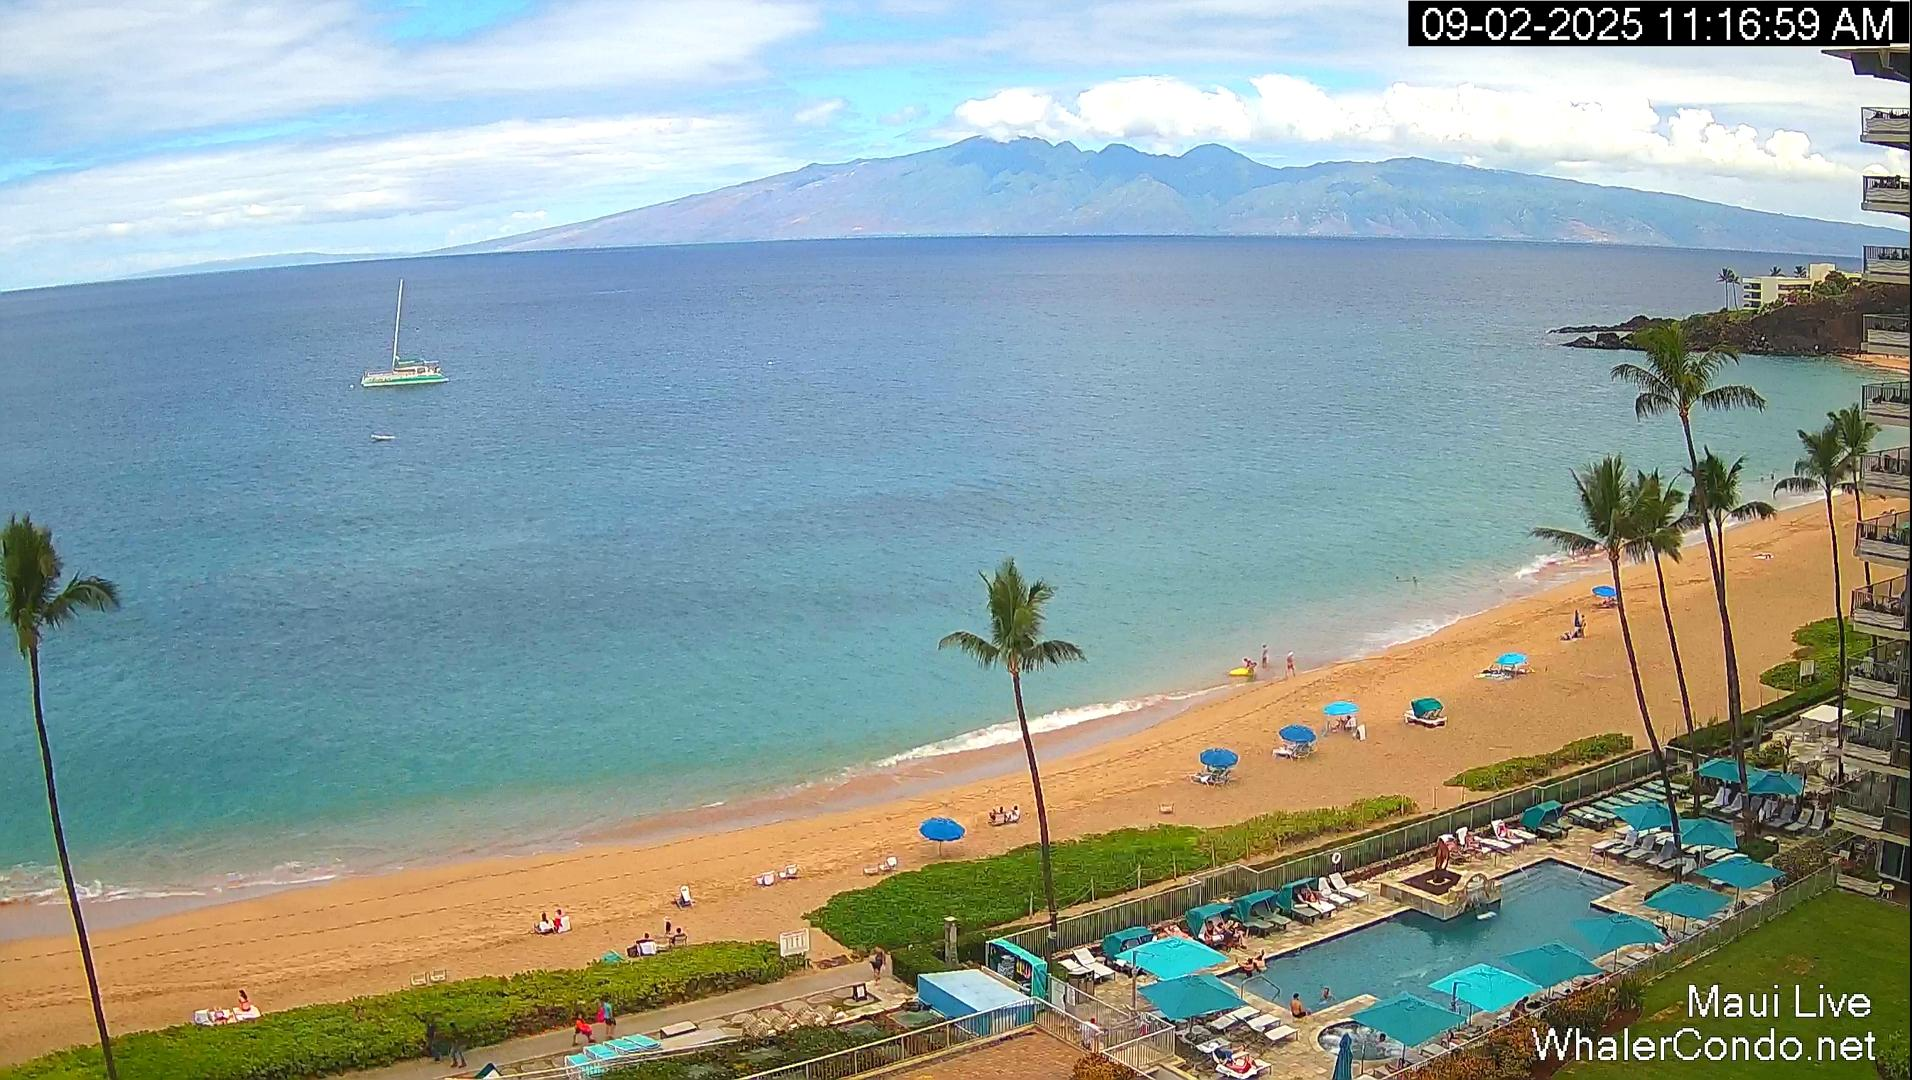boat: (360, 278, 448, 388), (371, 431, 398, 445)
person: (417, 1010, 438, 1063), (234, 989, 262, 1022), (448, 1022, 468, 1068), (600, 996, 616, 1040), (870, 948, 886, 990), (1448, 834, 1472, 860), (572, 1024, 596, 1046), (1298, 883, 1323, 904), (1464, 829, 1484, 854), (1222, 1056, 1257, 1070), (208, 1005, 231, 1026), (1318, 986, 1338, 1010), (636, 932, 656, 956), (1217, 920, 1237, 944), (1290, 992, 1307, 1018), (1238, 952, 1255, 977), (536, 912, 554, 934), (670, 926, 688, 947), (1254, 950, 1270, 973), (1511, 995, 1527, 1017), (1285, 651, 1296, 678), (552, 909, 564, 933), (1499, 820, 1513, 839), (1334, 713, 1350, 729), (990, 805, 1004, 822), (1262, 643, 1270, 670), (605, 1024, 617, 1041), (1574, 609, 1582, 634), (1204, 920, 1213, 940), (663, 916, 672, 935), (1580, 614, 1588, 634), (1242, 657, 1254, 669), (1410, 574, 1419, 589), (640, 931, 652, 942), (1008, 806, 1019, 818), (1768, 467, 1776, 482), (633, 939, 640, 956), (1394, 573, 1403, 583), (1758, 471, 1764, 483)
surfboard: (1230, 666, 1247, 676)
